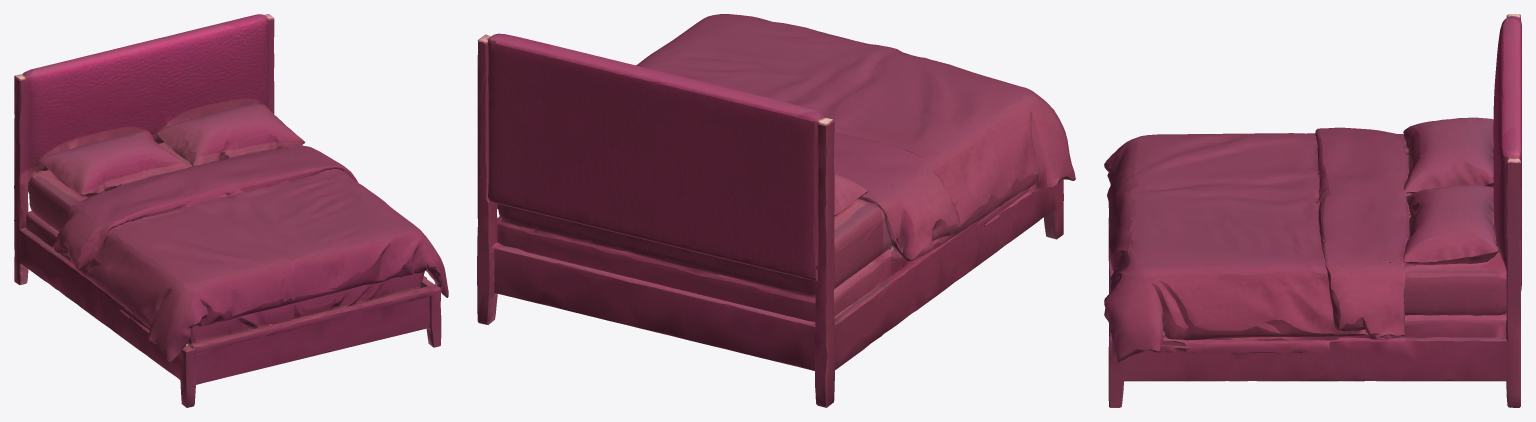
The model's file is L_BED_DOUBLE.cyberpunk.glb.
3 views of the same model, side by side, from view 1: azimuth 30°, elevation 25°; view 2: azimuth 150°, elevation 25°; view 3: azimuth 270°, elevation 25° (orthographic). The views are drawn at different scales.
Visible parts, largest first — view 1: geometry_0; view 2: geometry_0; view 3: geometry_0.
Part boxes in pixels (x1,y1,x2,y2): geometry_0: (14, 14, 448, 407); geometry_0: (477, 14, 1075, 407); geometry_0: (1104, 14, 1521, 407).
Size of the model in its own units: 2.15 by 1.49 by 2.25.
1 material, 1 textured.
